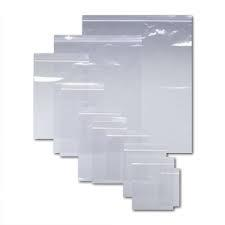Zip plastic bag: (21, 10, 208, 217)
